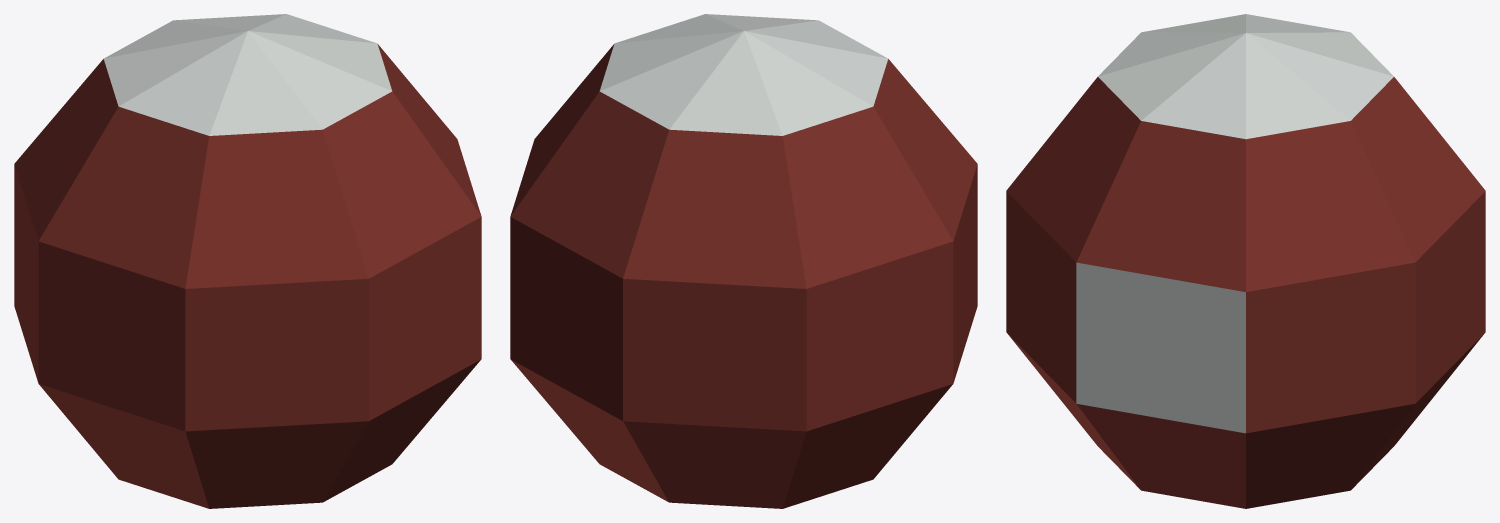
The model's file is SM_Prop_PoolBall_02.glb.
3 renders of one model, left to right at view 1: azimuth 30°, elevation 25°; view 2: azimuth 150°, elevation 25°; view 3: azimuth 270°, elevation 25°, orthographic.
Parts seen in each view (by area): view 1: SM_Prop_PoolBall_02; view 2: SM_Prop_PoolBall_02; view 3: SM_Prop_PoolBall_02.
Boxes of the visible parts, box(x1,y1,x2,y2) form: SM_Prop_PoolBall_02: box(14, 14, 481, 508); SM_Prop_PoolBall_02: box(510, 14, 977, 508); SM_Prop_PoolBall_02: box(1006, 14, 1485, 508).
Bounding box in the file's own units: 0.0843 × 0.0886 × 0.0843.
Materials: 1 (1 with a texture image).
